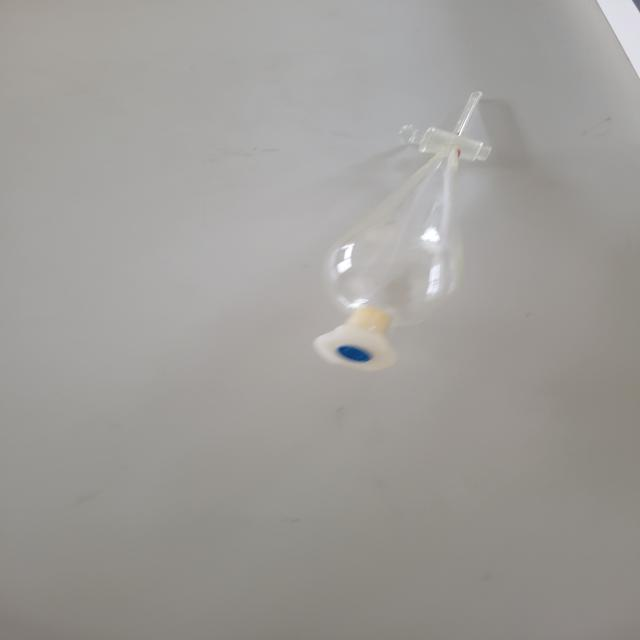Separating_Funnel: (290, 54, 540, 422)
